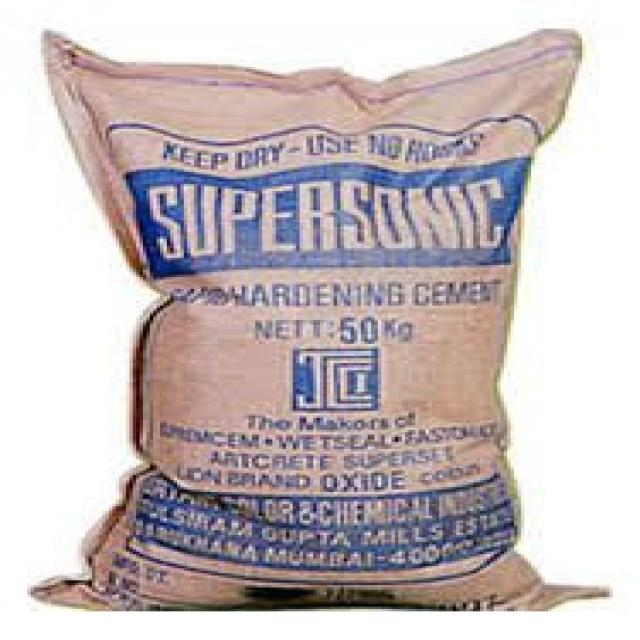KantongSemen: (34, 16, 640, 427)
